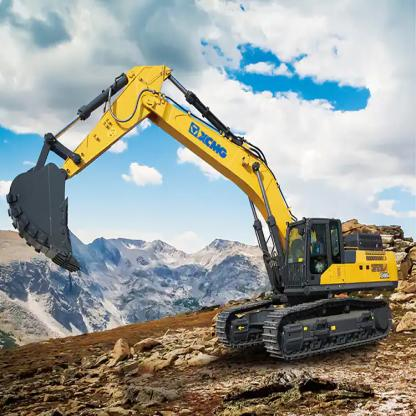excavator: (8, 60, 407, 364)
